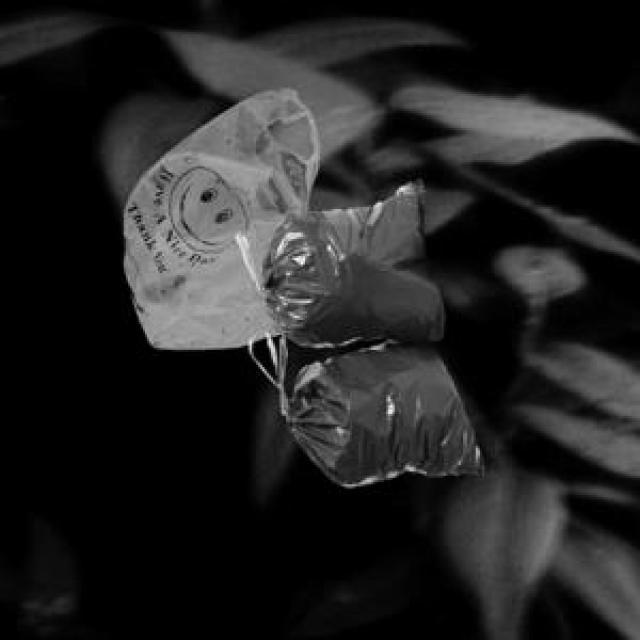miscellaneous trash: (233, 177, 480, 482)
